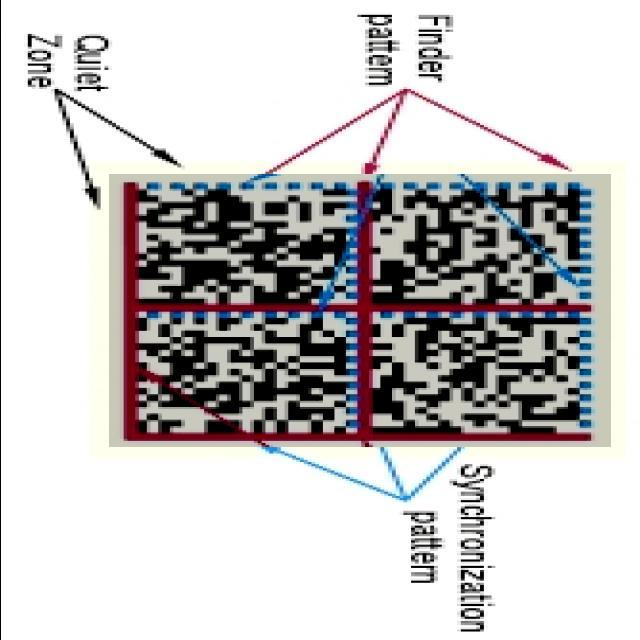Data-Matrix: (108, 174, 610, 447)
